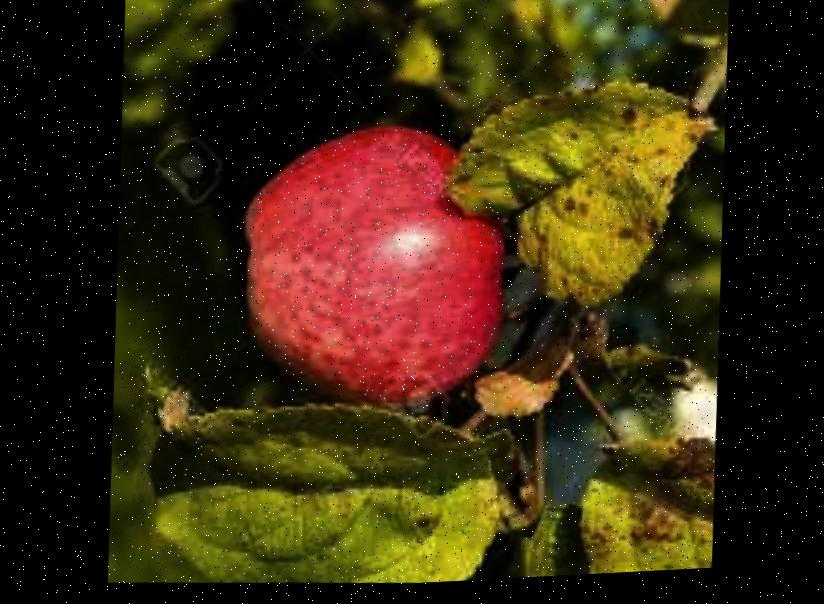HEALTHY: (230, 84, 533, 428)
